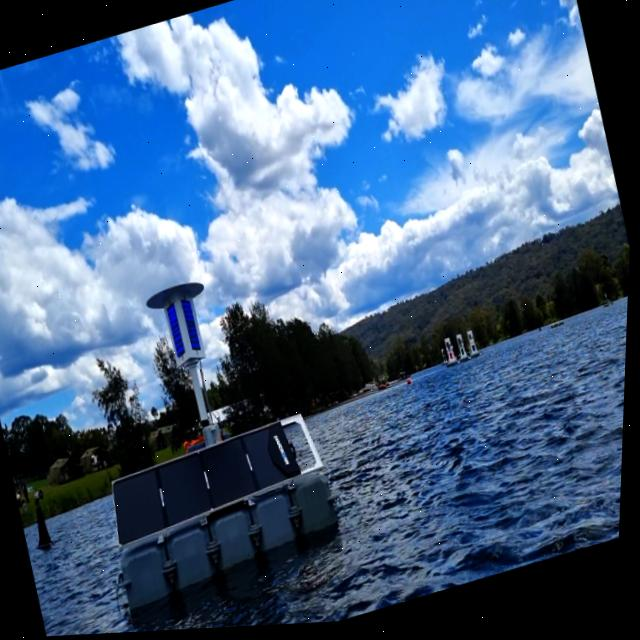led: (164, 301, 193, 363)
